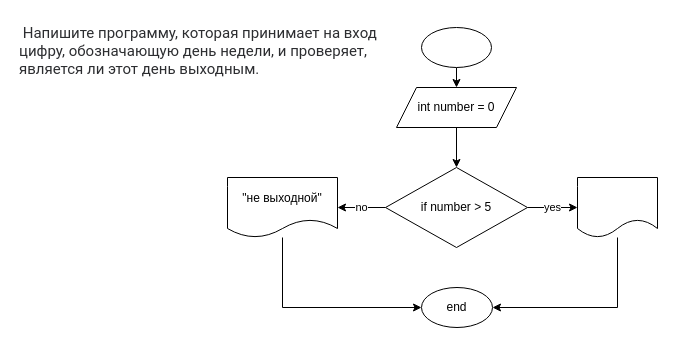
The diagram is 675 pixels wide and 345 high, and some of its shapes have lost their labels. Here are the shapes that lost their labels. From the top down, the centre of each, then its label:
[456,47]: start
[617,207]: "Выходной"
